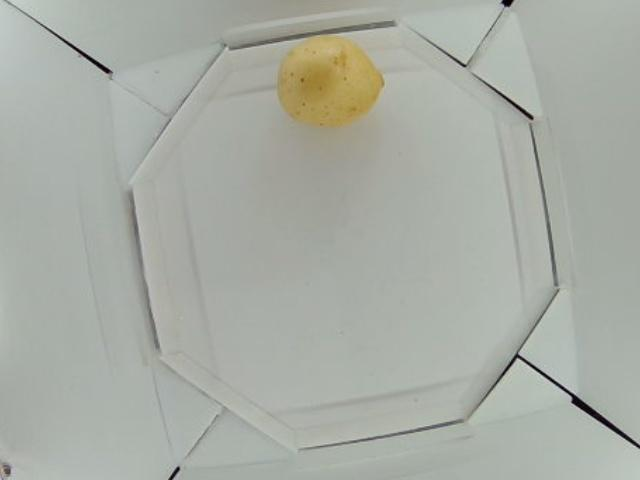Potato: (278, 39, 388, 125)
